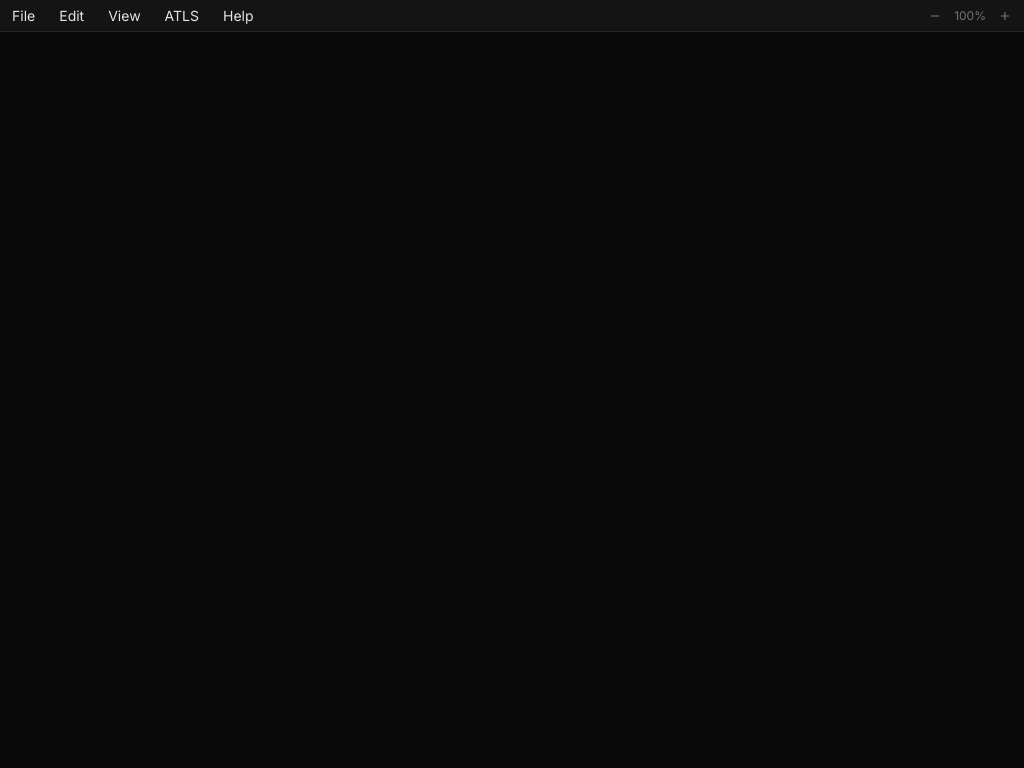
MenuBar › zoom in updates storage and label
expect the button titled "Reset Zoom" reads "100%": met, box [948,6,992,26]
Click the button titled "Zoom In" at (1005, 16), box [994,4,1016,26]
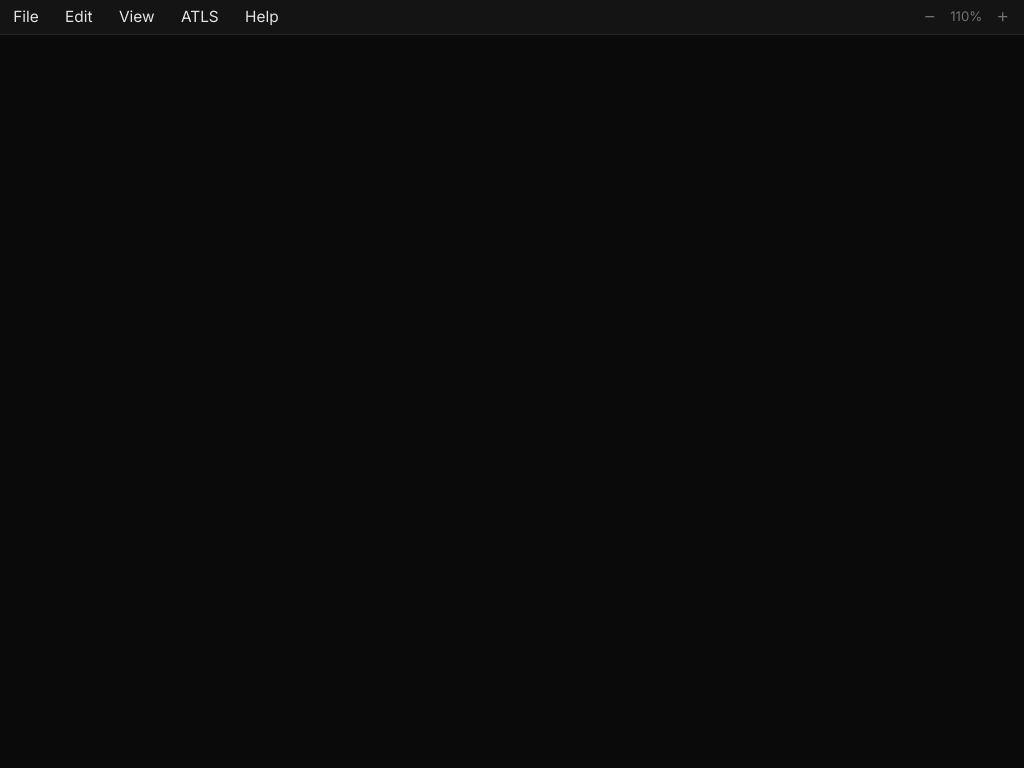
expect the button titled "Reset Zoom" reads "110%": met, box [944,6,989,28]
